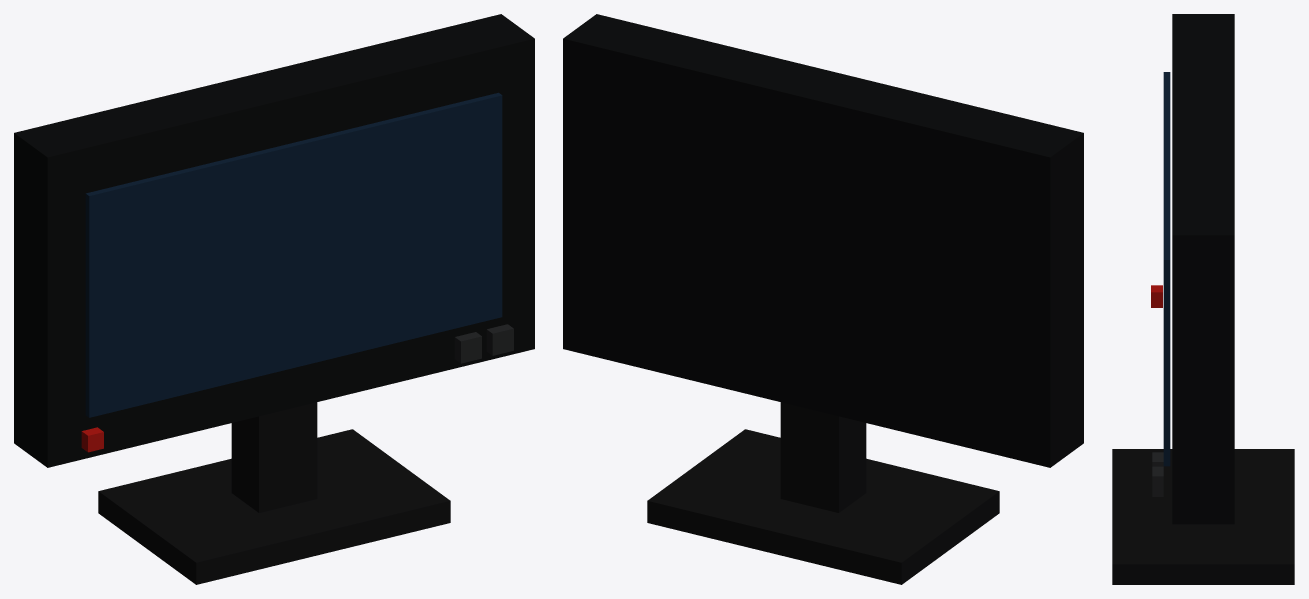
Rendered from office_tv.obj.
The picture shows the model from 3 angles, left to right: view 1: azimuth 30°, elevation 25°; view 2: azimuth 150°, elevation 25°; view 3: azimuth 270°, elevation 25°; orthographic projection. The views are drawn at different scales.
Parts seen in each view (by area): view 1: tv_screen_glass, tv_frame, tv_base, tv_neck, tv_button_left, tv_button_right; view 2: tv_frame, tv_base, tv_neck; view 3: tv_frame, tv_base, tv_screen_glass, tv_button_right, tv_power_led.
Part boxes in pixels (x1,y1,x2,y2): tv_screen_glass: (85,92,502,417); tv_frame: (14,14,534,467); tv_base: (98,429,450,584); tv_neck: (231,402,317,512); tv_button_left: (454,332,481,363); tv_button_right: (486,324,513,355); tv_frame: (563,14,1083,467); tv_base: (647,429,999,584); tv_neck: (780,402,866,512); tv_frame: (1172,14,1234,524); tv_base: (1112,449,1294,584); tv_screen_glass: (1163,72,1170,466); tv_button_right: (1152,466,1163,496); tv_power_led: (1151,285,1162,307).
Bounding box in the file's own units: 0.92 × 0.78 × 0.32.
